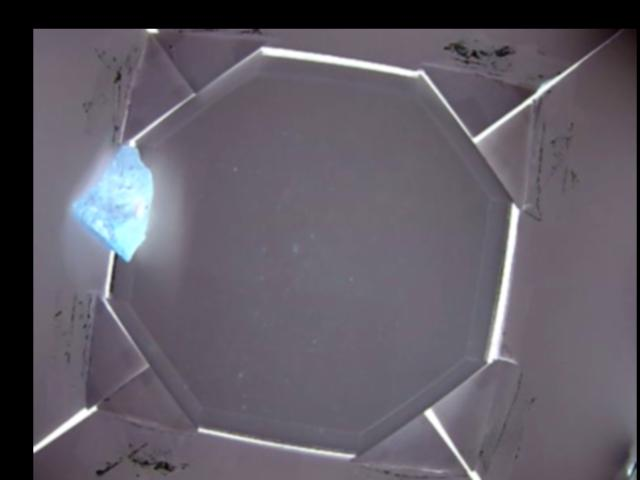Brisk: (74, 146, 152, 260)
